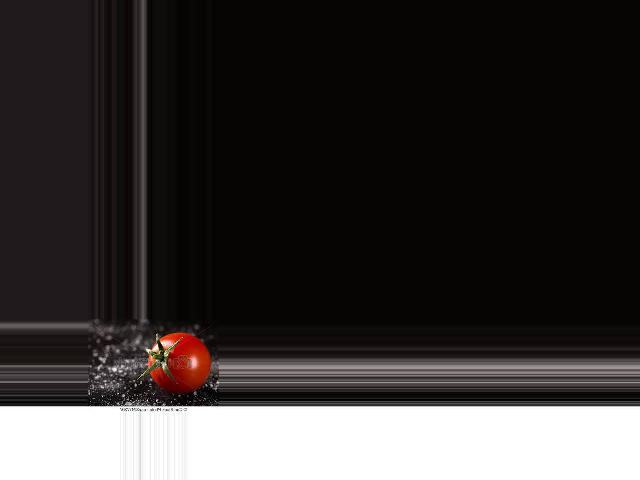tomato: (147, 332, 210, 393)
